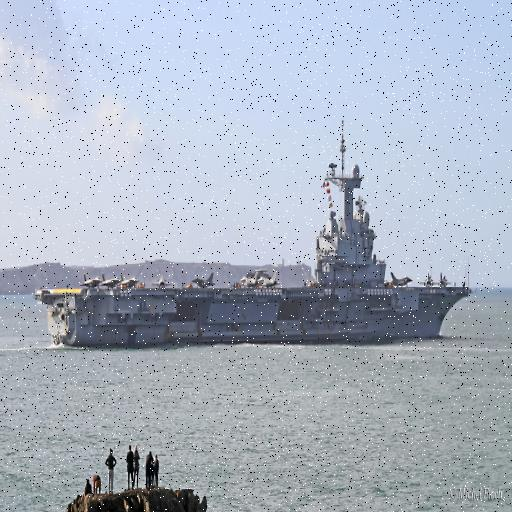Portanaves: (35, 115, 477, 354)
